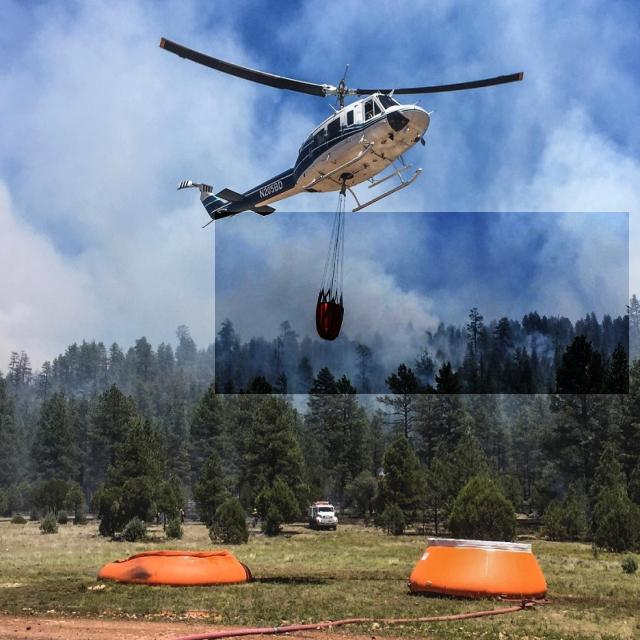Smoke: (215, 212, 629, 394)
